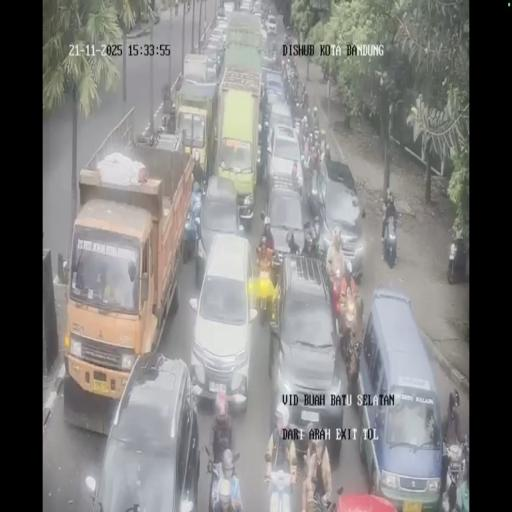car: (355, 288, 441, 502), (89, 352, 200, 508), (268, 254, 344, 454), (314, 161, 364, 279), (195, 173, 246, 285), (263, 185, 306, 272), (266, 124, 303, 198), (262, 69, 287, 114), (204, 29, 226, 71), (259, 26, 269, 60), (267, 14, 277, 34), (240, 0, 254, 13), (216, 6, 228, 21), (254, 9, 262, 22)
motorcycle: (205, 445, 243, 510), (440, 428, 468, 511), (264, 456, 298, 511), (254, 264, 273, 322), (380, 207, 398, 268), (298, 95, 318, 147), (447, 237, 469, 284), (301, 219, 322, 257)
truck: (173, 63, 219, 184), (222, 7, 264, 79)
